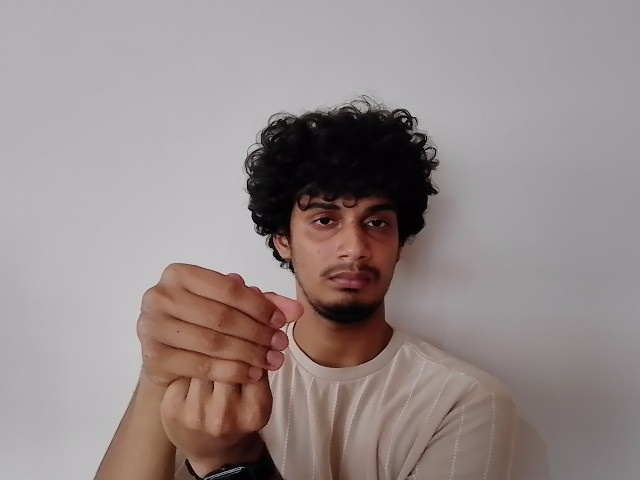with: (132, 261, 306, 447)
